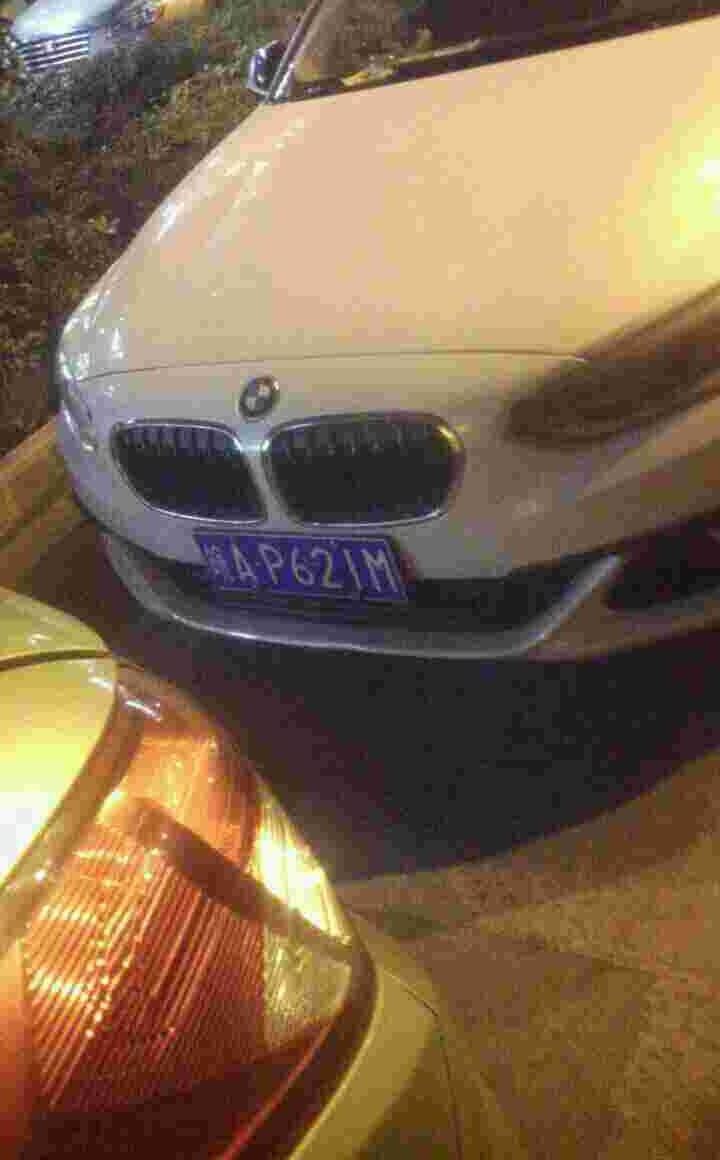car: (189, 525, 413, 611)
